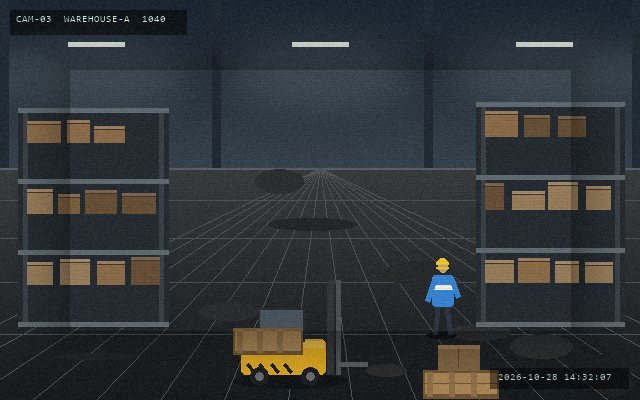forklift: (237, 278, 370, 388)
pallet: (421, 368, 500, 399), (231, 326, 304, 356)
person: (425, 257, 460, 337)
shelf: (476, 102, 624, 322), (18, 108, 168, 322)
